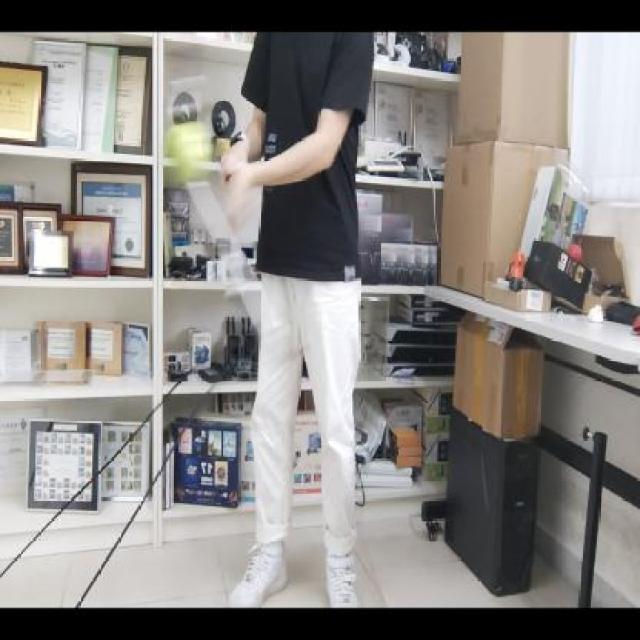baseball: (161, 116, 222, 193)
